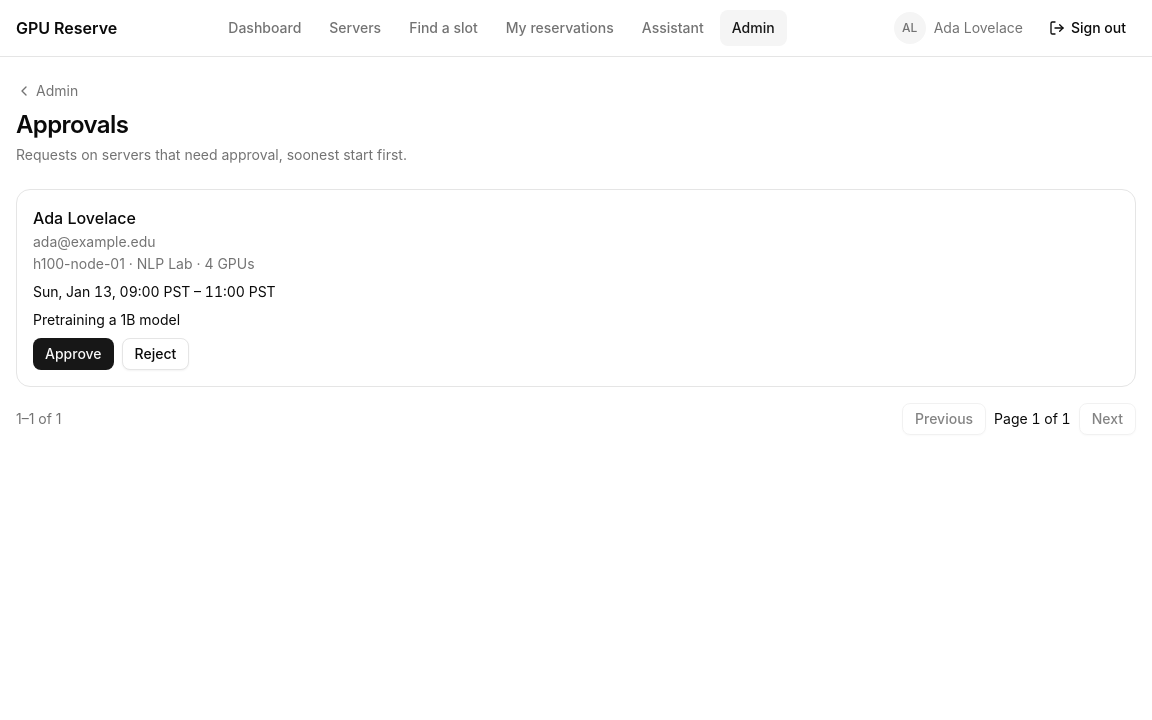
it: approval queue › puts the API's validation error under the reason
Click the button "Reject" at point(155, 354), box [122,338,189,370]
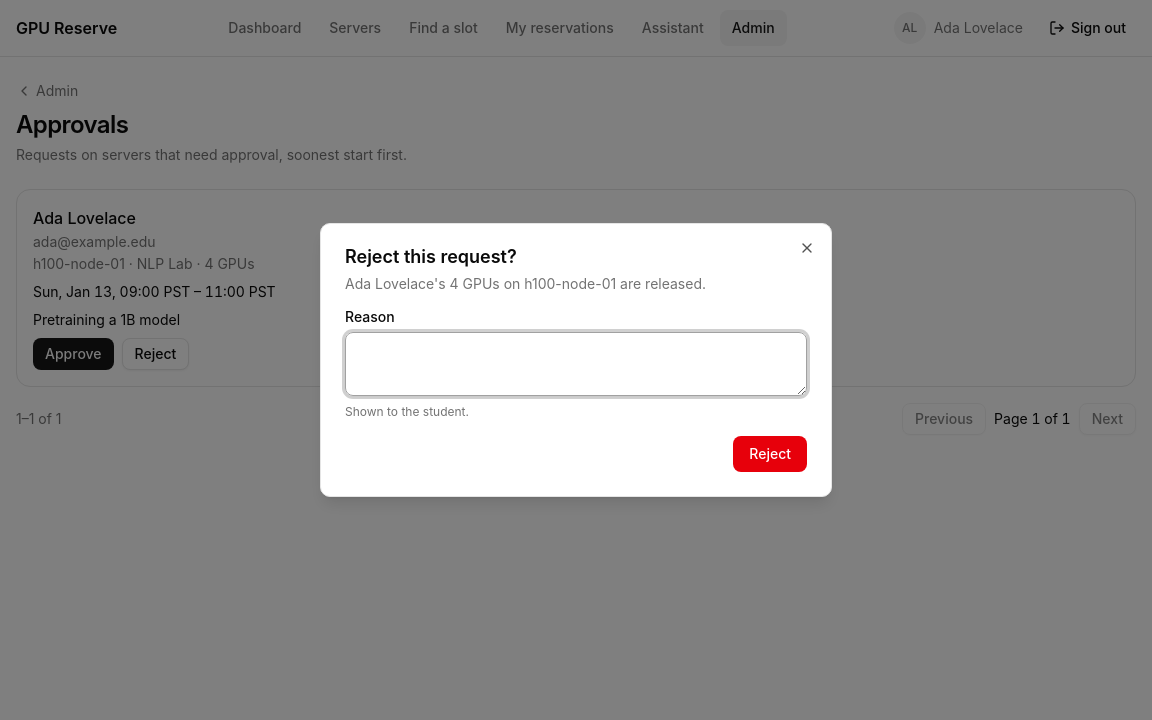
Type "No" into the text box labelled "Reason" at point(576, 364), box [345,332,807,396]
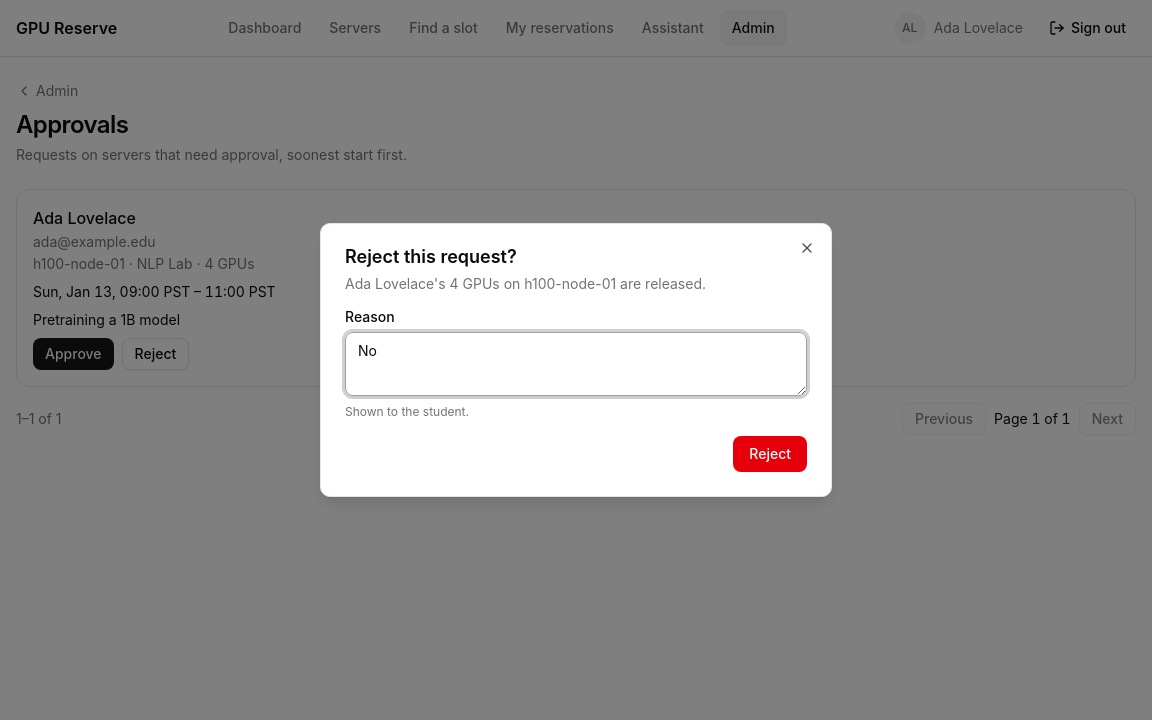
Click the button "Reject" at point(770, 454), box [733,436,807,472]
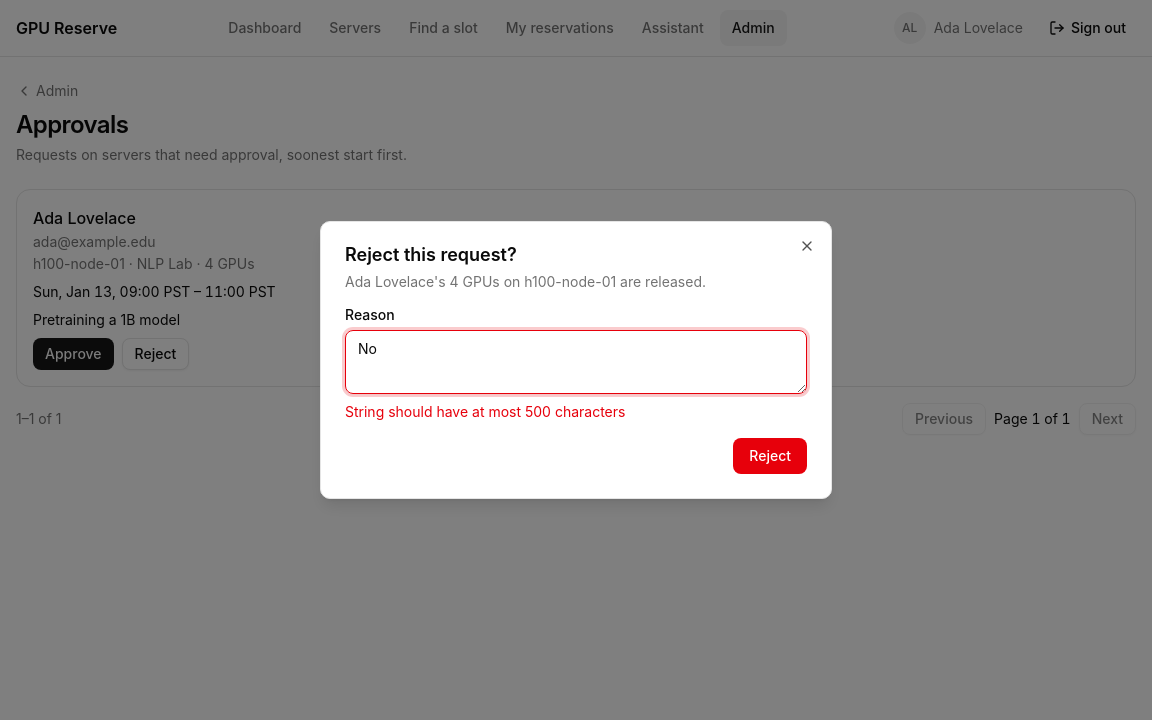
Check: the text "String should have at most 500 characters" is shown, box [345,403,625,420]
